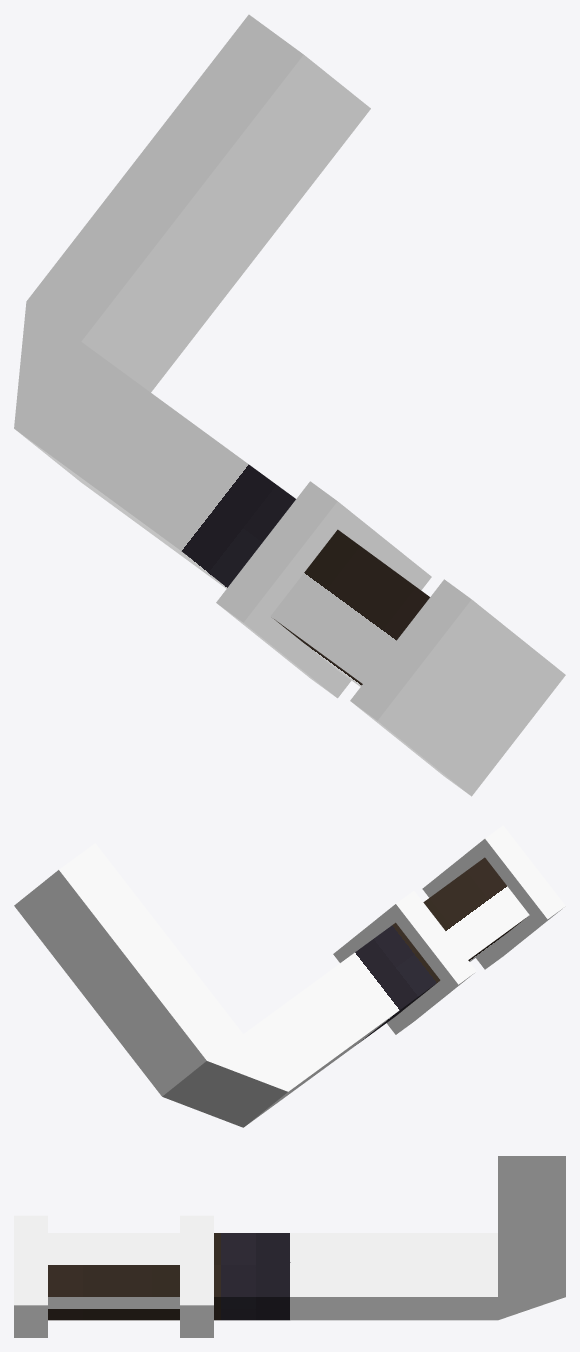
The model's file is impulse_cannon_arm_closed.obj.
3 renders of one model, top to bottom at view 1: azimuth 30°, elevation 25°; view 2: azimuth 150°, elevation 25°; view 3: azimuth 270°, elevation 25°, orthographic. The views are drawn at different scales.
Parts seen in each view (by area): view 1: Side_Handle_Closed_Cube.006; view 2: Side_Handle_Closed_Cube.006; view 3: Side_Handle_Closed_Cube.006.
Boxes of the visible parts, box(x1,y1,x2,y2) form: Side_Handle_Closed_Cube.006: box(14, 14, 565, 796); Side_Handle_Closed_Cube.006: box(14, 825, 565, 1127); Side_Handle_Closed_Cube.006: box(14, 1156, 565, 1337).
Bounding box in the file's own units: 0.2521 × 0.2521 × 0.5063.
